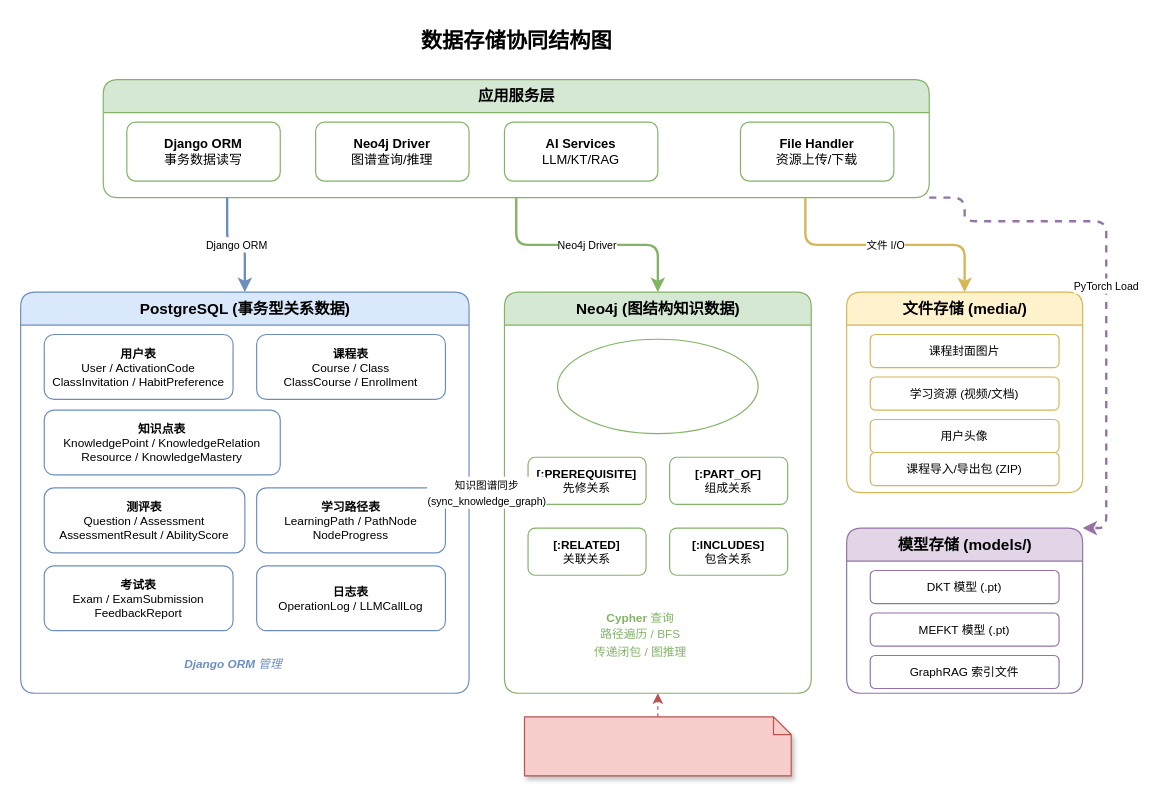
Image size: 1159x805. Some labels were removed from this diagram. Here are the shapes that lost their labels. From the top down, the centre of each, then its label:
At (657,386): "知识点节点 (:KnowledgePoint) name, course_id, level chapter, point_type".
At (658,747): "降级机制: Neo4j 不可用时 自动回退到 PostgreSQL 查询".
